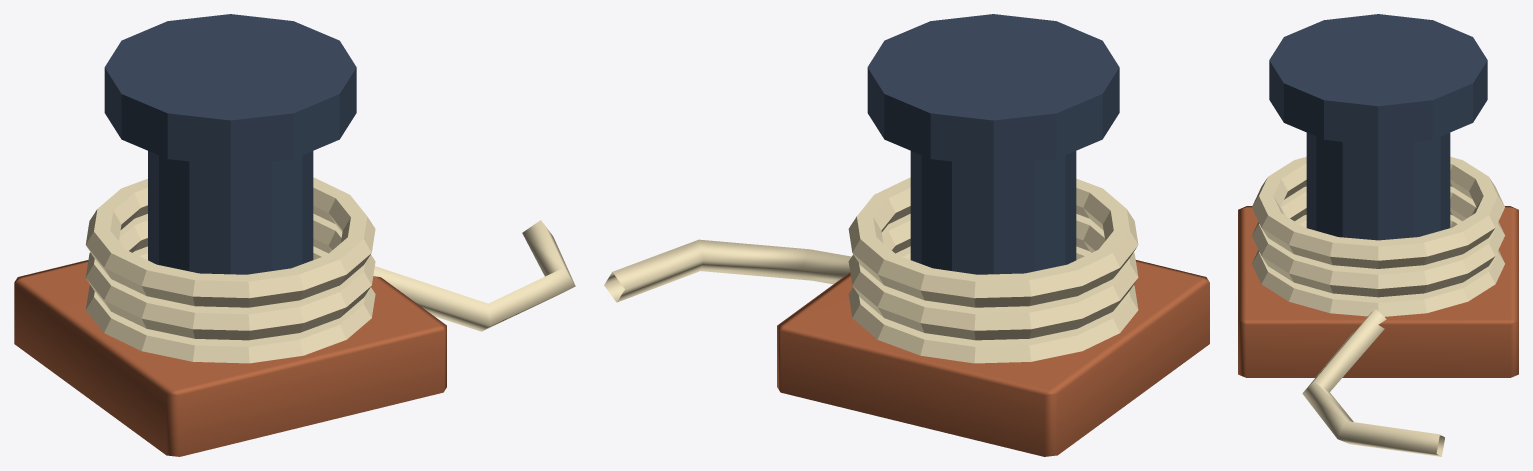
Rendered from mooring-bollard.glb.
3 renders of one model, left to right at view 1: azimuth 30°, elevation 25°; view 2: azimuth 150°, elevation 25°; view 3: azimuth 270°, elevation 25°, orthographic. The views are drawn at different scales.
Visible parts, largest first — view 1: Mounting base, Bollard cap, Bollard stem, Coiled rope.002, Coiled rope.001, Coiled rope, Loose rope; view 2: Mounting base, Bollard cap, Bollard stem, Coiled rope.002, Coiled rope.001, Loose rope, Coiled rope; view 3: Bollard cap, Mounting base, Bollard stem, Coiled rope.002, Coiled rope.001, Coiled rope, Loose rope.
Part boxes in pixels (box(x1,y1,x2,y2)): Mounting base: box(14, 260, 446, 456); Bollard cap: box(104, 14, 356, 166); Bollard stem: box(148, 151, 313, 274); Coiled rope.002: box(85, 177, 375, 307); Coiled rope.001: box(85, 213, 375, 340); Coiled rope: box(86, 246, 375, 363); Loose rope: box(373, 220, 575, 331); Mounting base: box(777, 260, 1209, 456); Bollard cap: box(867, 14, 1119, 166); Bollard stem: box(910, 151, 1076, 274); Coiled rope.002: box(848, 177, 1138, 307); Coiled rope.001: box(848, 214, 1138, 340); Loose rope: box(604, 239, 851, 302); Coiled rope: box(848, 246, 1138, 363); Bollard cap: box(1269, 14, 1487, 145); Mounting base: box(1238, 206, 1518, 377); Bollard stem: box(1306, 132, 1450, 240); Coiled rope.002: box(1252, 156, 1504, 268); Coiled rope.001: box(1252, 186, 1504, 297); Coiled rope: box(1252, 214, 1504, 316); Loose rope: box(1302, 309, 1444, 456).
Bounding box in the file's own units: 1.59 × 0.92 × 0.9.
